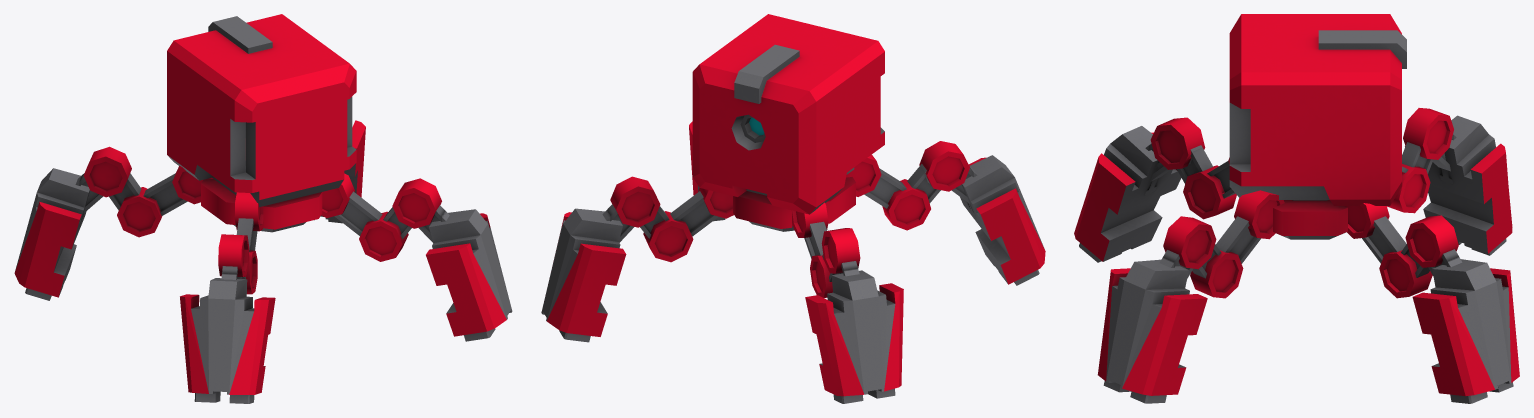
File: Monster1_Attack22.obj
3 views of the same model, side by side, from view 1: azimuth 30°, elevation 25°; view 2: azimuth 150°, elevation 25°; view 3: azimuth 270°, elevation 25° (orthographic). The views are drawn at different scales.
Visible parts, largest first — view 1: Box006, Object021, Object017, Object025, Object020, Object028, Object027, Object018, Object019, Object026, Object024, Object022 (+1 smaller); view 2: Box006, Object025, Object013, Object021, Object016, Object023, Object024, Object015, Object014, Object028, Object022, Object026 (+1 smaller); view 3: Box006, Object013, Object017, Object021, Object025, Object018, Object023, Object016, Object020, Object024, Object028, Object014 (+4 smaller).
Boxes of the visible parts, x1=… form: Box006: x1=167, y1=14, x2=356, y2=232; Object021: x1=180, y1=278, x2=275, y2=403; Object017: x1=426, y1=209, x2=512, y2=341; Object025: x1=14, y1=168, x2=89, y2=300; Object020: x1=392, y1=178, x2=449, y2=242; Object028: x1=75, y1=146, x2=131, y2=213; Object027: x1=109, y1=173, x2=162, y2=237; Object018: x1=321, y1=173, x2=382, y2=235; Object019: x1=359, y1=207, x2=411, y2=261; Object026: x1=143, y1=166, x2=213, y2=215; Object024: x1=218, y1=234, x2=249, y2=279; Object022: x1=234, y1=192, x2=263, y2=251; Box006: x1=692, y1=14, x2=884, y2=231; Object025: x1=805, y1=270, x2=903, y2=403; Object013: x1=541, y1=208, x2=626, y2=342; Object021: x1=960, y1=155, x2=1045, y2=285; Object016: x1=602, y1=176, x2=660, y2=242; Object023: x1=882, y1=164, x2=940, y2=230; Object024: x1=919, y1=141, x2=977, y2=203; Object015: x1=640, y1=206, x2=693, y2=262; Object014: x1=670, y1=188, x2=733, y2=236; Object028: x1=821, y1=228, x2=860, y2=276; Object022: x1=846, y1=154, x2=906, y2=208; Object026: x1=792, y1=202, x2=828, y2=258; Box006: x1=1229, y1=14, x2=1406, y2=239; Object013: x1=1412, y1=259, x2=1519, y2=403; Object017: x1=1097, y1=259, x2=1207, y2=403; Object021: x1=1074, y1=126, x2=1181, y2=262; Object025: x1=1405, y1=115, x2=1512, y2=255; Object018: x1=1216, y1=190, x2=1284, y2=263; Object023: x1=1177, y1=145, x2=1236, y2=219; Object016: x1=1405, y1=215, x2=1462, y2=275; Object020: x1=1159, y1=216, x2=1216, y2=278; Object024: x1=1145, y1=117, x2=1205, y2=181; Object028: x1=1403, y1=108, x2=1456, y2=171; Object014: x1=1344, y1=203, x2=1406, y2=263.
Bounding box in the file's own units: 150 × 108 × 153.
